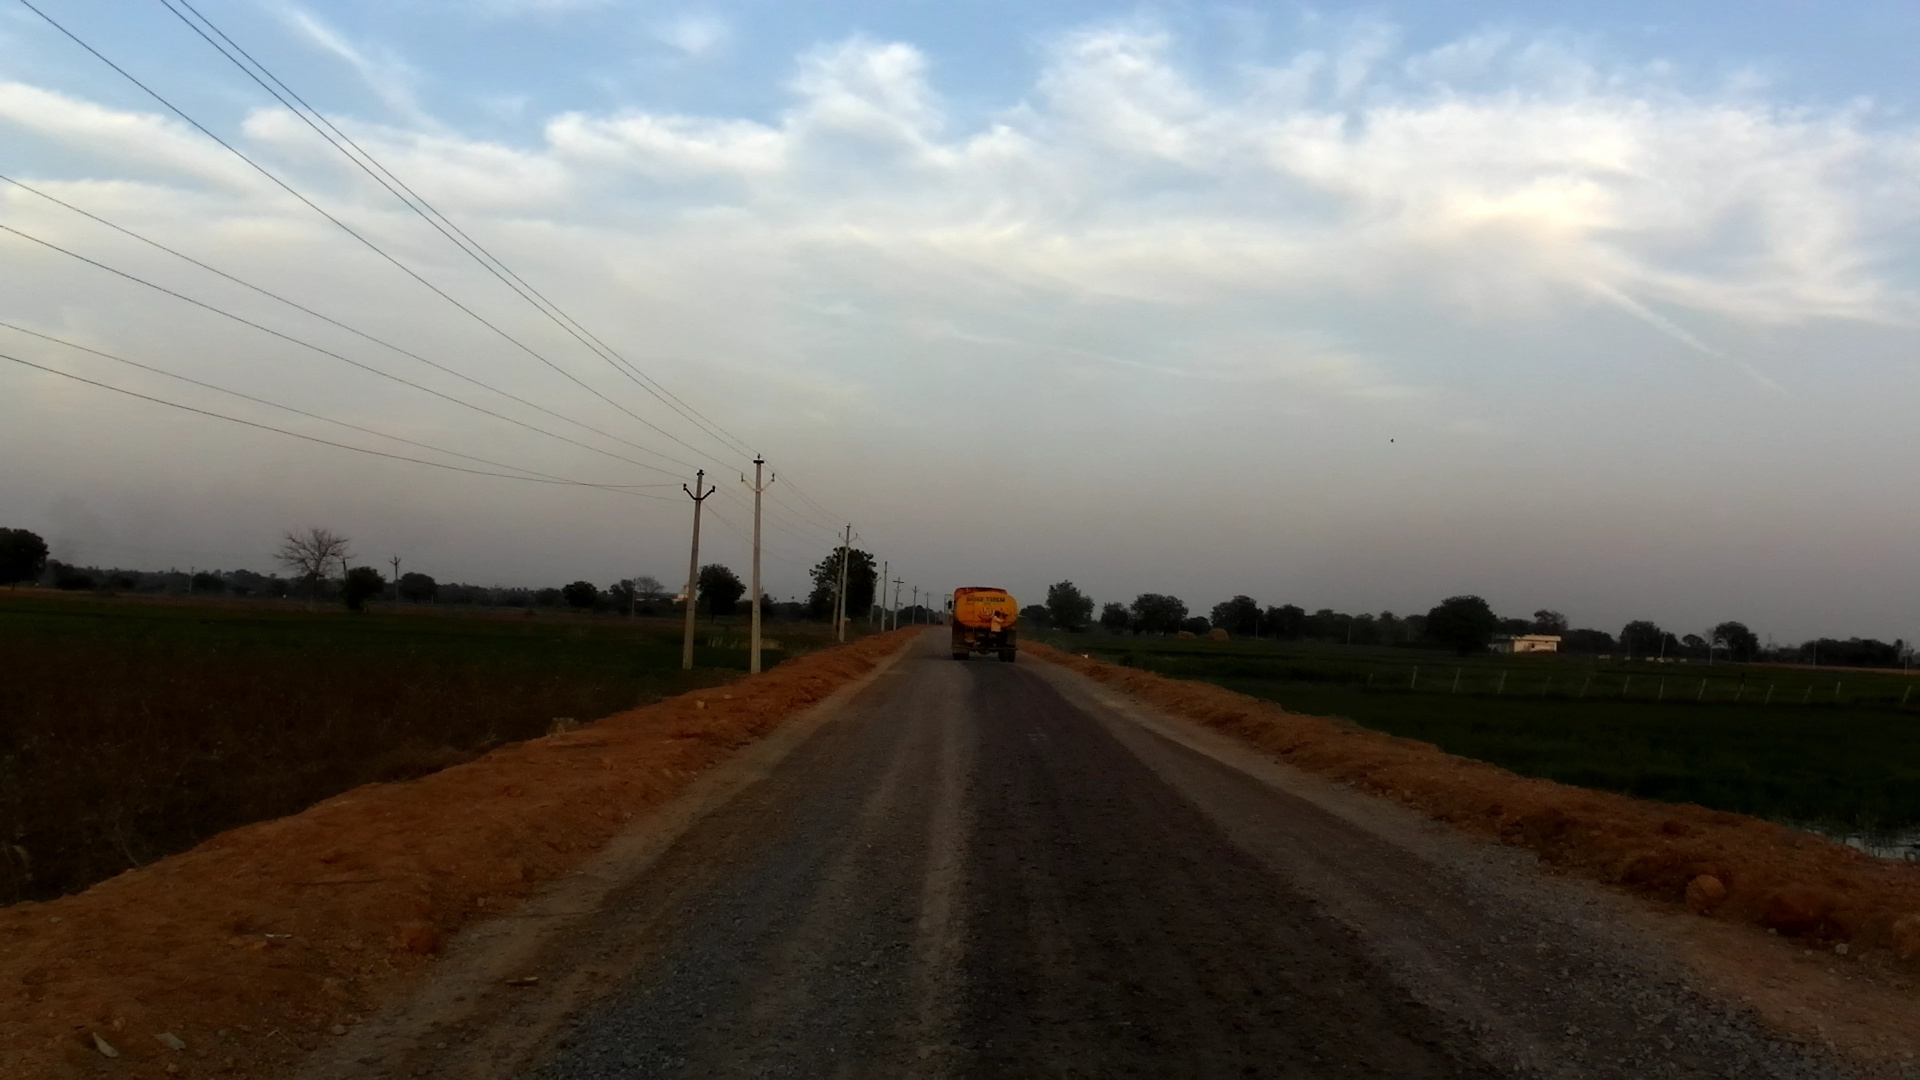truck: (944, 587, 1015, 662)
